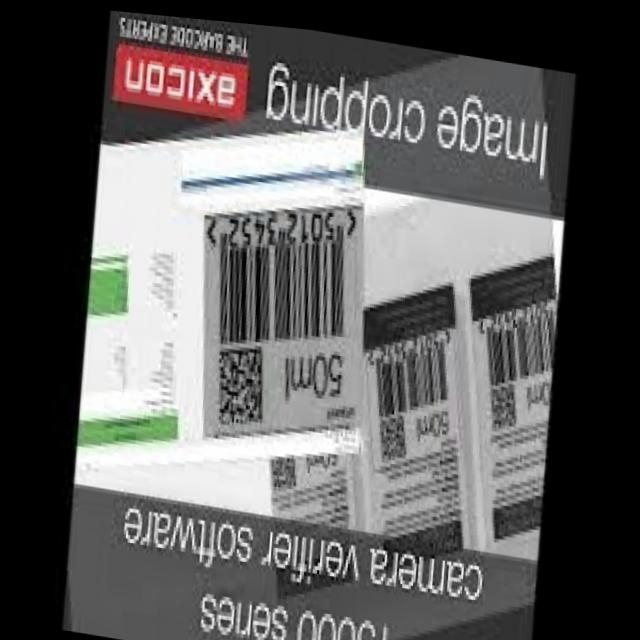datamatrix: (210, 330, 271, 433), (483, 362, 524, 432), (375, 396, 411, 466), (268, 441, 301, 491)
